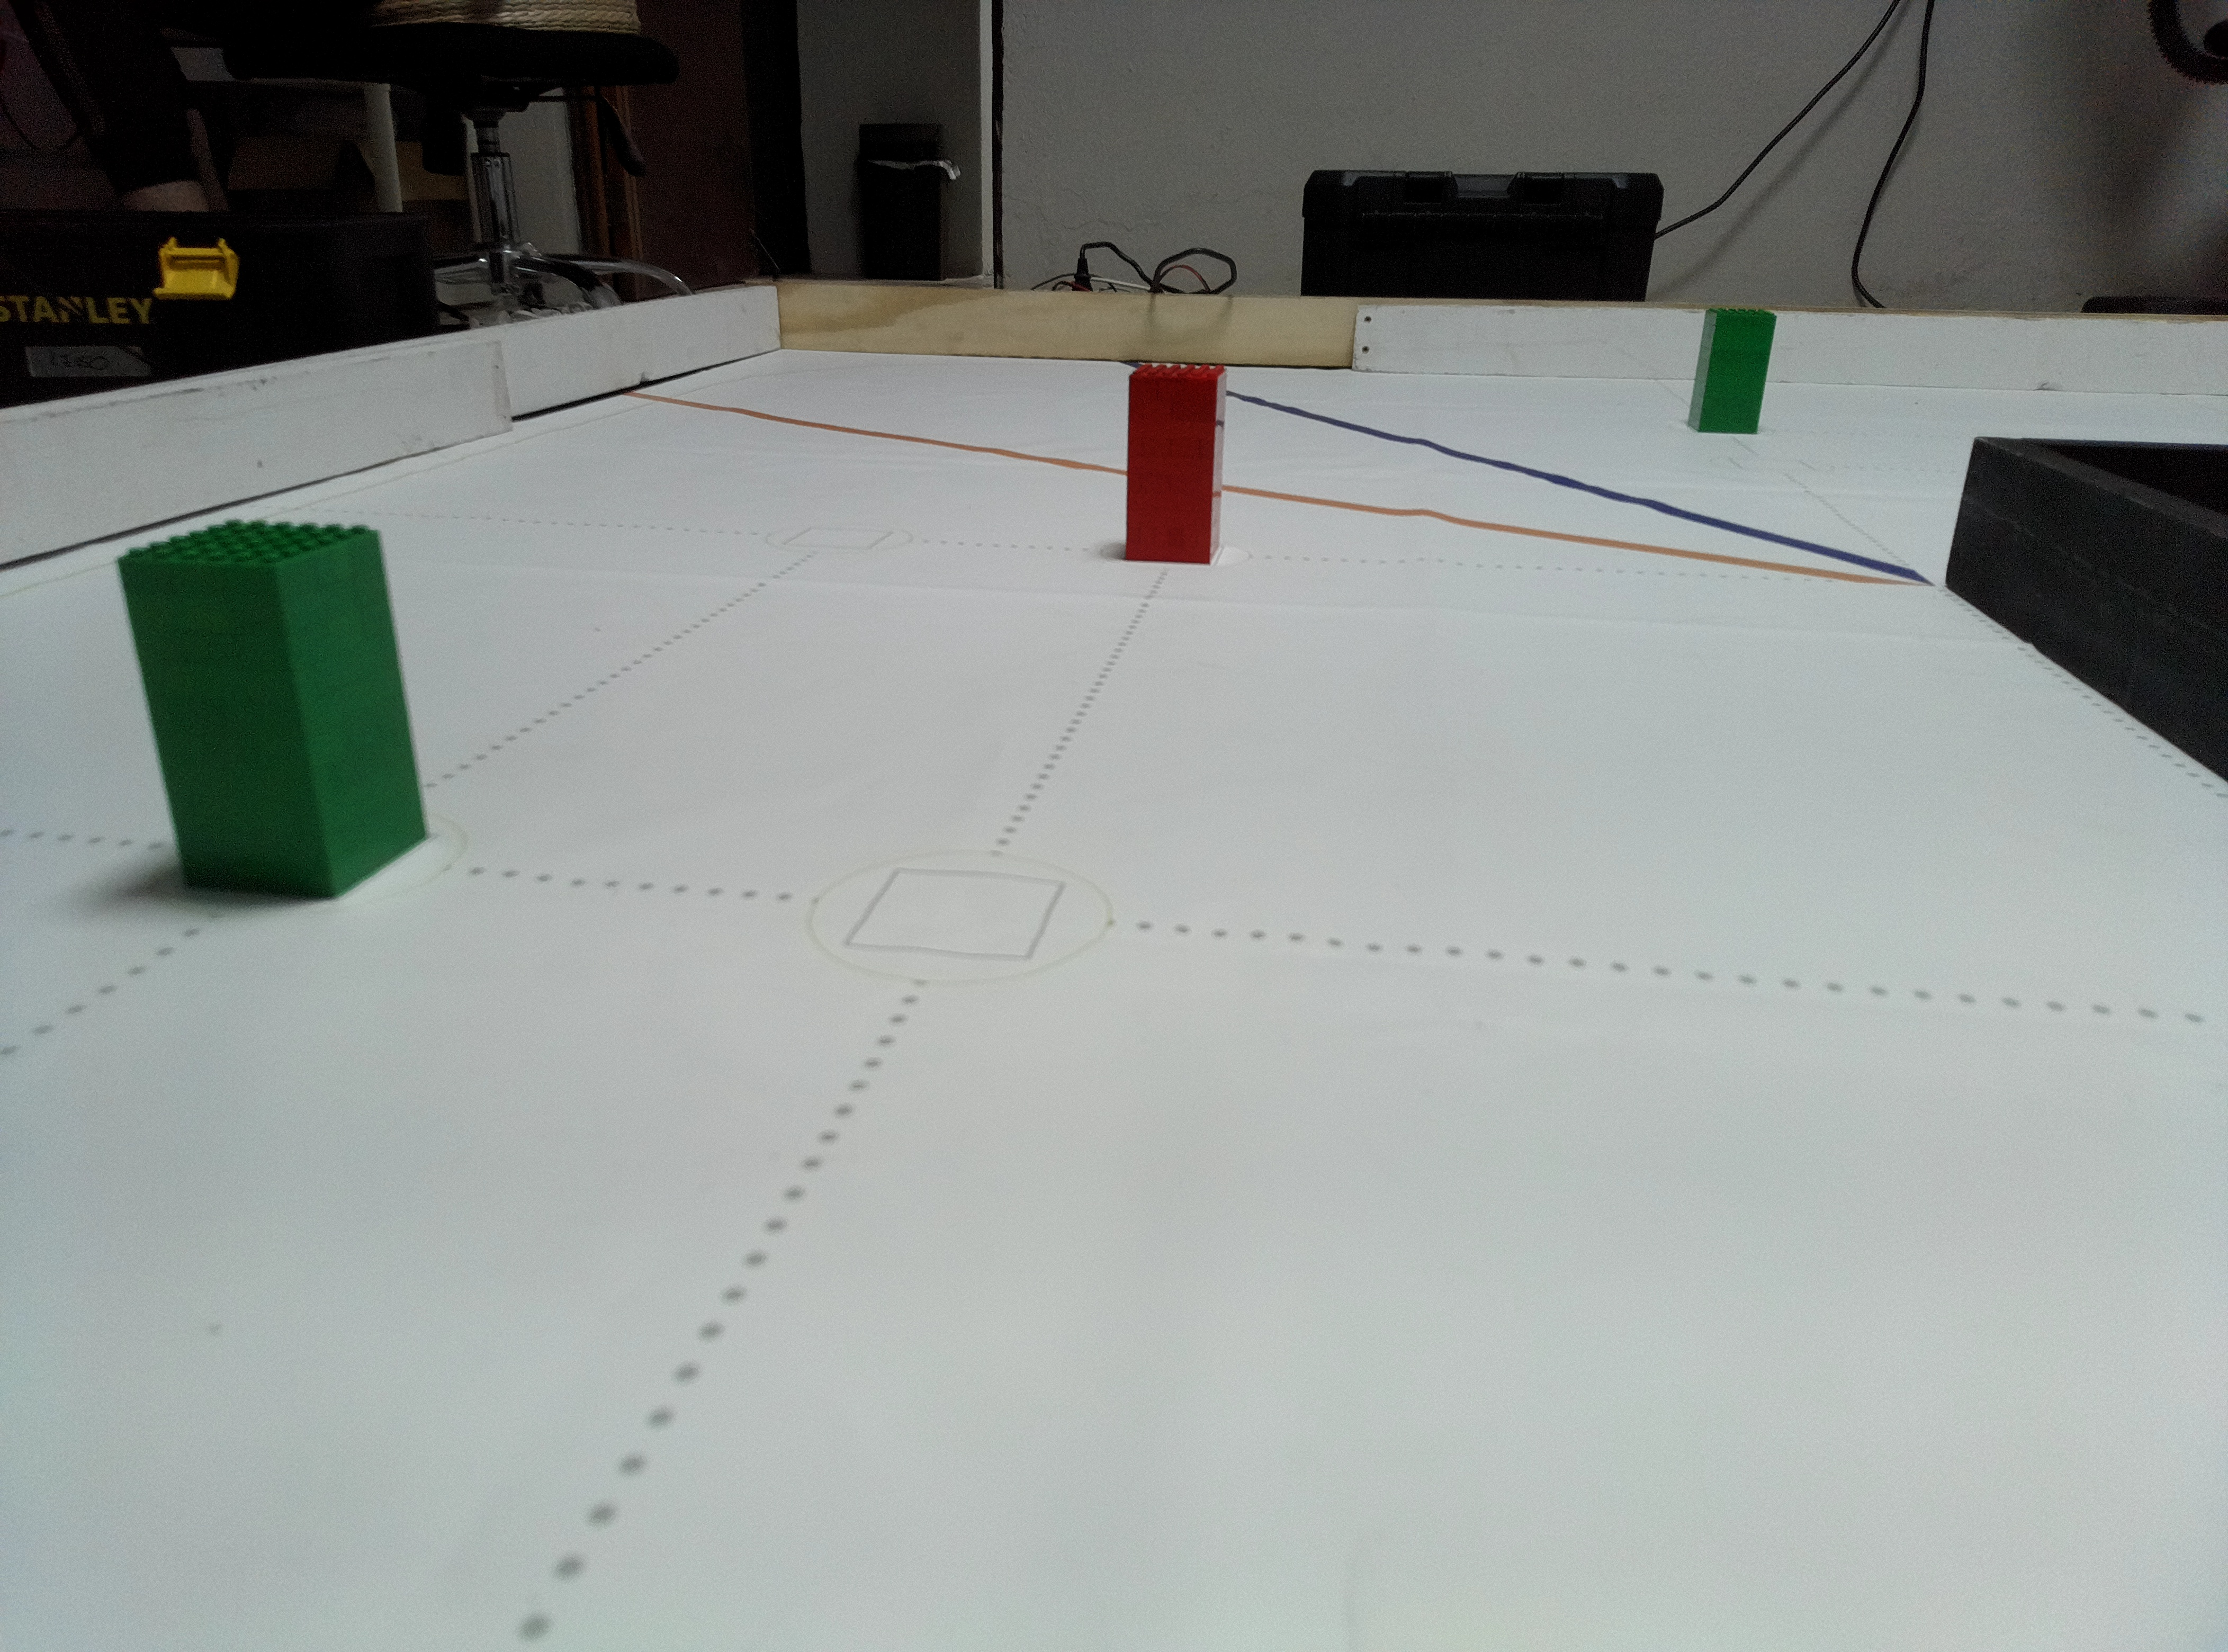greenbox: (113, 515, 436, 906), (1685, 309, 1779, 436)
redbox: (1123, 361, 1227, 566)
